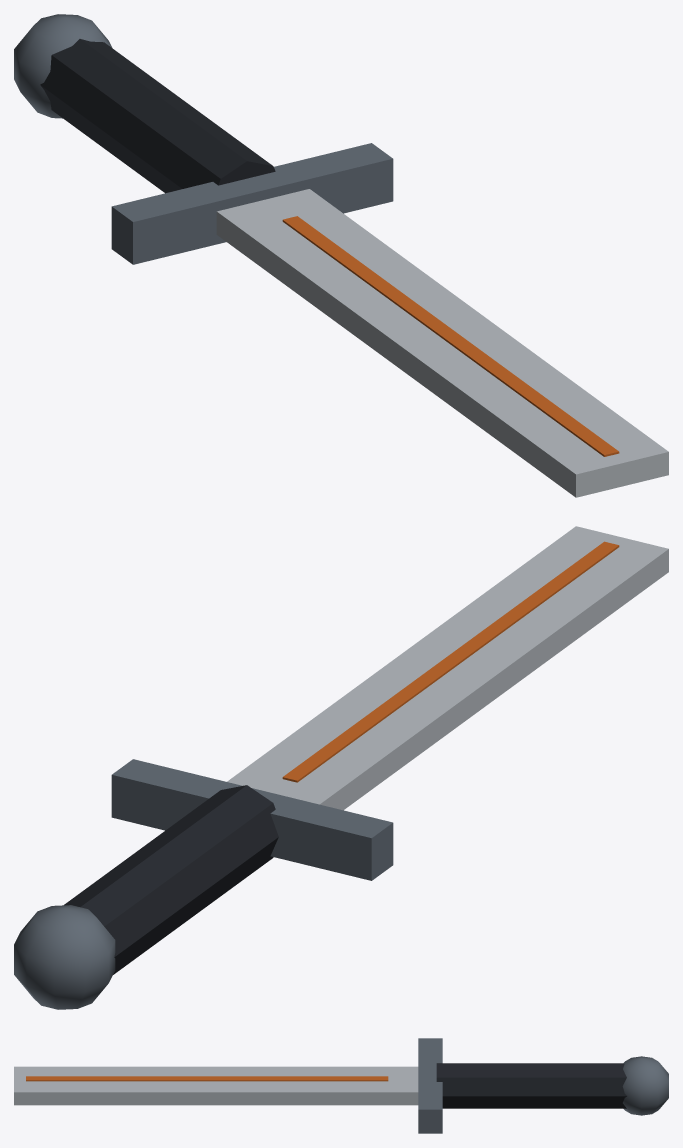
File: vibro-blade.glb
3 views of the same model, one above another, from view 1: azimuth 30°, elevation 25°; view 2: azimuth 150°, elevation 25°; view 3: azimuth 270°, elevation 25° (orthographic). The views are drawn at different scales.
Parts seen in each view (by area): view 1: vibro-blade; view 2: vibro-blade; view 3: vibro-blade.
Boxes of the visible parts, <box> form: vibro-blade: <box>14,14,668,497</box>; vibro-blade: <box>14,526,668,1009</box>; vibro-blade: <box>14,1038,668,1133</box>.
Bounding box in the file's own units: 0.14 × 0.05 × 0.5426.
